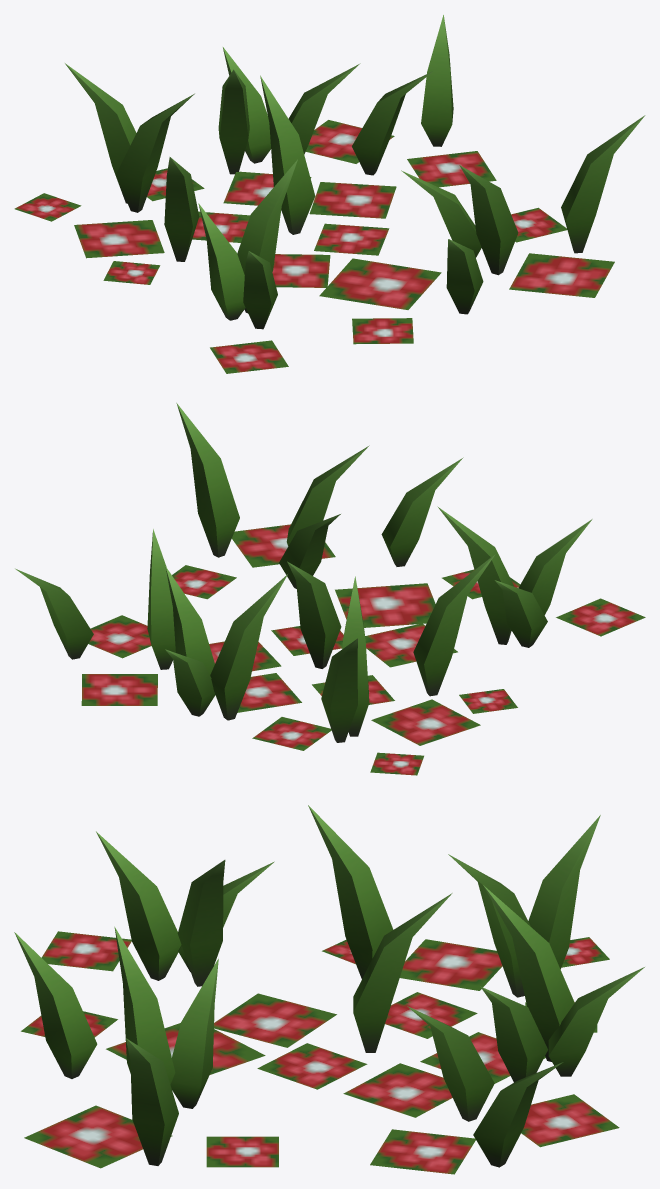
The model's file is deco_flowersSmall_red.FBX.
The picture shows the model from 3 angles, top to bottom: view 1: azimuth 30°, elevation 25°; view 2: azimuth 150°, elevation 25°; view 3: azimuth 270°, elevation 25°; orthographic projection. The views are drawn at different scales.
Parts seen in each view (by area): view 1: deco_flowersSmall_red; view 2: deco_flowersSmall_red; view 3: deco_flowersSmall_red.
Part boxes in pixels (box(x1,y1,x2,y2)): deco_flowersSmall_red: box(14, 15, 645, 373); deco_flowersSmall_red: box(15, 403, 645, 775); deco_flowersSmall_red: box(14, 805, 644, 1174).
Bounding box in the file's own units: 1.94 × 0.5481 × 1.98.
Materials: 1 (1 with a texture image).
